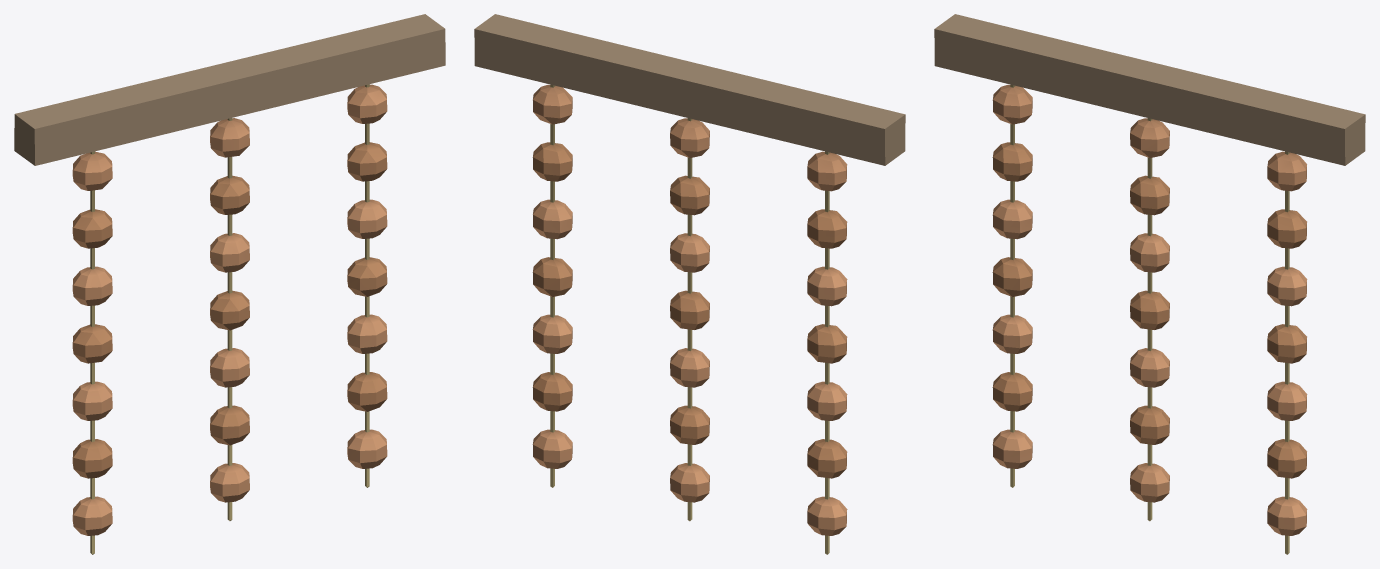
The model's file is harvest_persimmon_string_low.glb.
3 renders of one model, left to right at view 1: azimuth 30°, elevation 25°; view 2: azimuth 150°, elevation 25°; view 3: azimuth 330°, elevation 25°, orthographic.
Size of the model in its own units: 0.8977 by 0.9396 by 0.0775.
